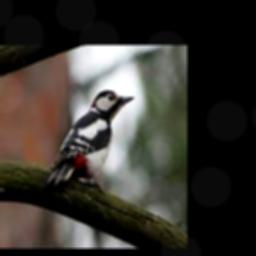Woodpecker: (47, 90, 135, 192)
